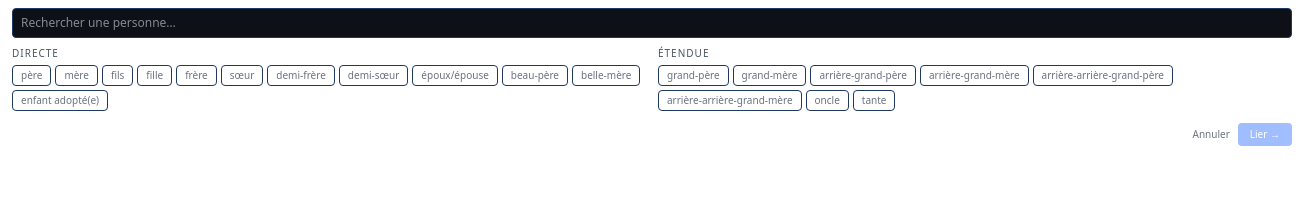
Test: LinkPersonForm › excludes the current person from the list
This screenshot has width=1304, height=205.
Type "dupont" into the field with placeholder "Rechercher une personne…" at (652,23), box [12, 8, 1292, 38]
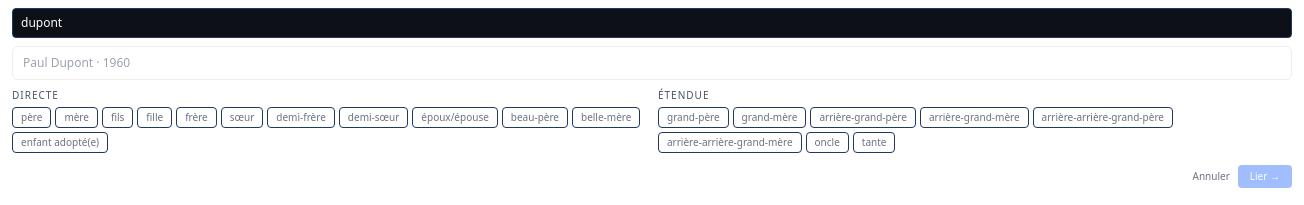
Expected: the button "Paul Dupont · 1960" is shown, [15, 49, 1289, 77]
